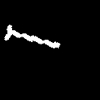half_double_crochet: (5, 25, 59, 47)
